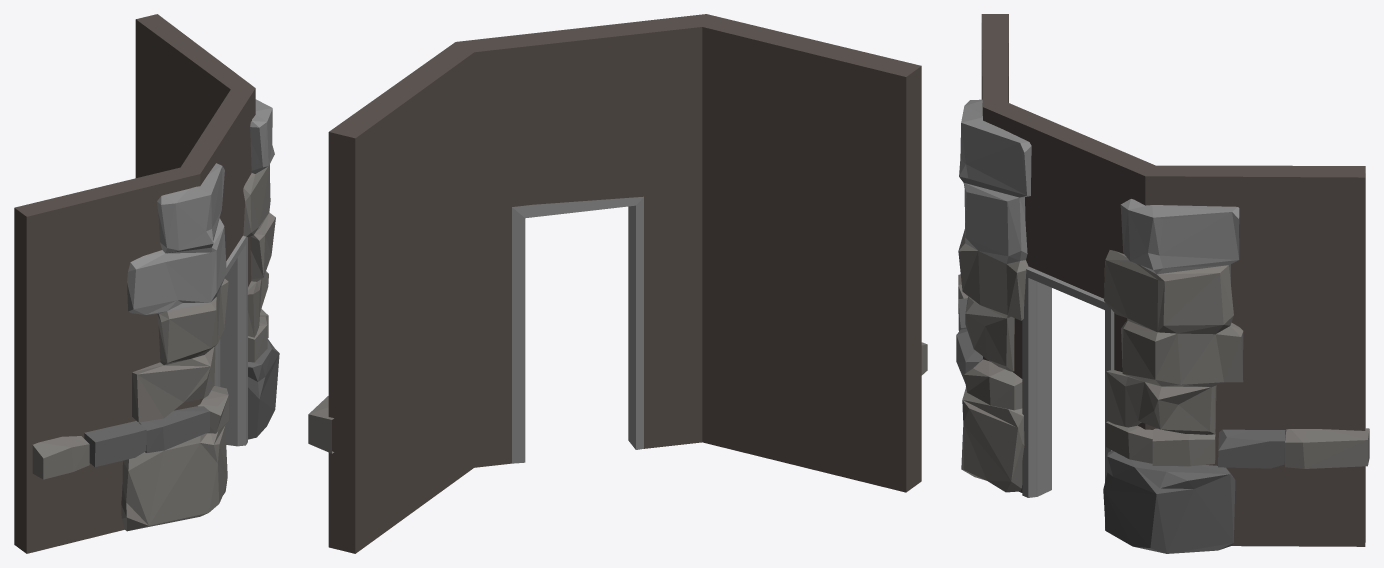
File: MCastle_OctWalls_ArchCarbels_Door.FBX
The picture shows the model from 3 angles, left to right: view 1: azimuth 30°, elevation 25°; view 2: azimuth 150°, elevation 25°; view 3: azimuth 270°, elevation 25°; orthographic projection. The views are drawn at different scales.
Parts seen in each view (by area): view 1: MCastle_OctWalls_Border_Door_LOD0; view 2: MCastle_OctWalls_Border_Door_LOD0; view 3: MCastle_OctWalls_Border_Door_LOD0.
Boxes of the visible parts, x1,y1,x2,y2 form: MCastle_OctWalls_Border_Door_LOD0: (14,14,279,553); MCastle_OctWalls_Border_Door_LOD0: (308,14,927,553); MCastle_OctWalls_Border_Door_LOD0: (956,14,1369,553).
Size of what is drawn, in the model's own units: 181 by 176 by 178.
